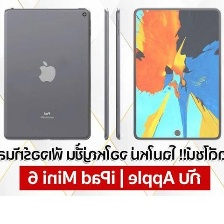phone: (130, 3, 223, 142), (2, 6, 95, 142), (101, 6, 111, 141), (114, 6, 122, 142)
